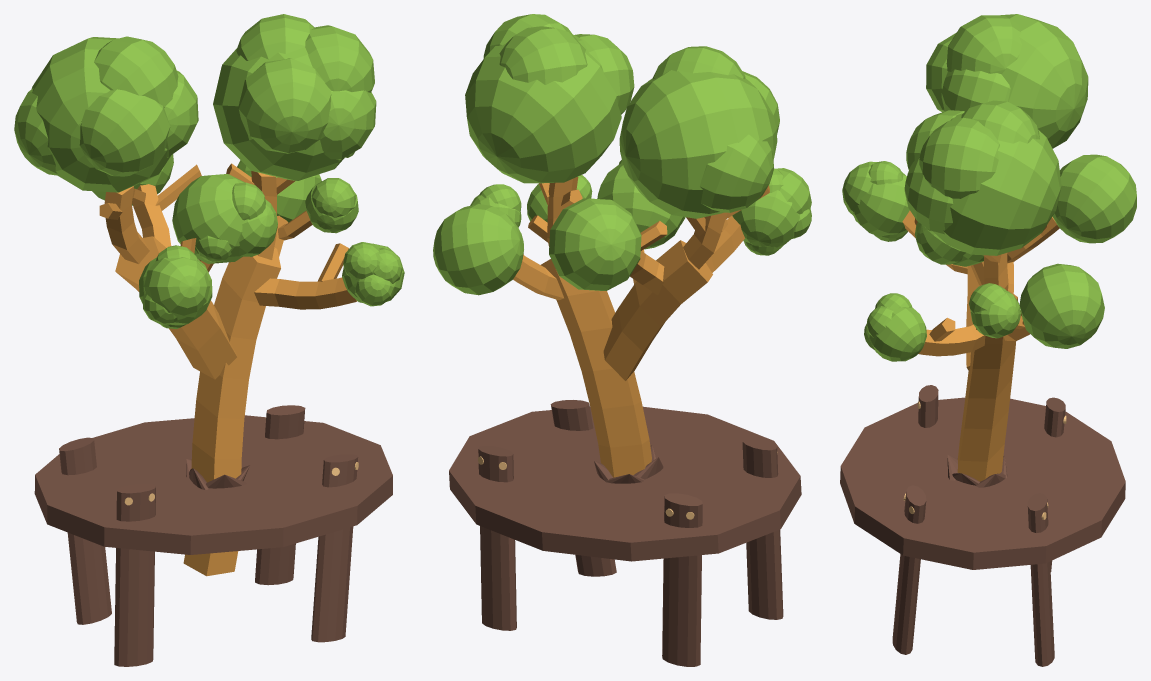
The model's file is TreeParkBench.glb.
The picture shows the model from 3 angles, left to right: view 1: azimuth 30°, elevation 25°; view 2: azimuth 150°, elevation 25°; view 3: azimuth 270°, elevation 25°; orthographic projection. The views are drawn at different scales.
Visible parts, largest first — view 1: group1091683886, group1357944804, group1249047891, group674795374, group1084877262, group244558096, group1835076753, group771146647, group104541336, group106446548, group588804690, group992478306 (+24 smaller); view 2: group1091683886, group1249047891, group1835076753, group1357944804, group722146532, group1844667057, group992478306, group104541336, group633623746, group244558096, group2079043278, group199800407 (+14 smaller); view 3: group1091683886, group1835076753, group1249047891, group1357944804, group722146532, group1844667057, group1110222547, group588804690, group633623746, group771146647, group972435053, group1462930928 (+17 smaller).
Boxes of the visible parts, <box> form: group1091683886: <box>34,415,392,554</box>; group1357944804: <box>183,247,280,576</box>; group1249047891: <box>31,37,171,192</box>; group674795374: <box>238,58,331,153</box>; group1084877262: <box>79,89,170,176</box>; group244558096: <box>114,484,155,666</box>; group1835076753: <box>213,47,344,180</box>; group771146647: <box>311,454,358,642</box>; group104541336: <box>59,437,111,624</box>; group106446548: <box>172,174,244,263</box>; group588804690: <box>94,36,178,107</box>; group992478306: <box>115,236,236,379</box>; group1091683886: <box>449,406,801,561</box>; group1249047891: <box>619,70,777,218</box>; group1835076753: <box>465,33,621,183</box>; group1357944804: <box>541,259,651,477</box>; group722146532: <box>549,198,641,290</box>; group1844667057: <box>433,204,523,295</box>; group992478306: <box>603,240,712,380</box>; group104541336: <box>662,493,702,666</box>; group633623746: <box>478,446,516,630</box>; group244558096: <box>742,438,783,619</box>; group2079043278: <box>699,134,773,212</box>; group199800407: <box>499,26,587,84</box>; group1091683886: <box>840,397,1125,569</box>; group1835076753: <box>933,113,1061,255</box>; group1249047891: <box>999,14,1088,148</box>; group1357944804: <box>957,290,1017,481</box>; group722146532: <box>1052,154,1136,243</box>; group1844667057: <box>1019,263,1104,348</box>; group1110222547: <box>919,117,999,198</box>; group588804690: <box>946,15,1021,74</box>; group633623746: <box>1027,493,1054,666</box>; group771146647: <box>892,485,926,654</box>; group972435053: <box>852,171,909,236</box>; group1462930928: <box>941,69,1010,111</box>.
Size of the model in its own units: 0.9078 by 1.58 by 0.7586.
